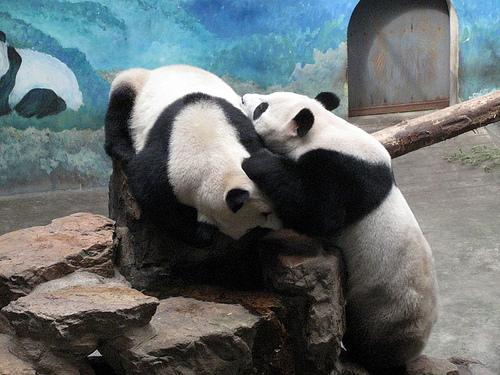panda: (105, 65, 436, 370)
